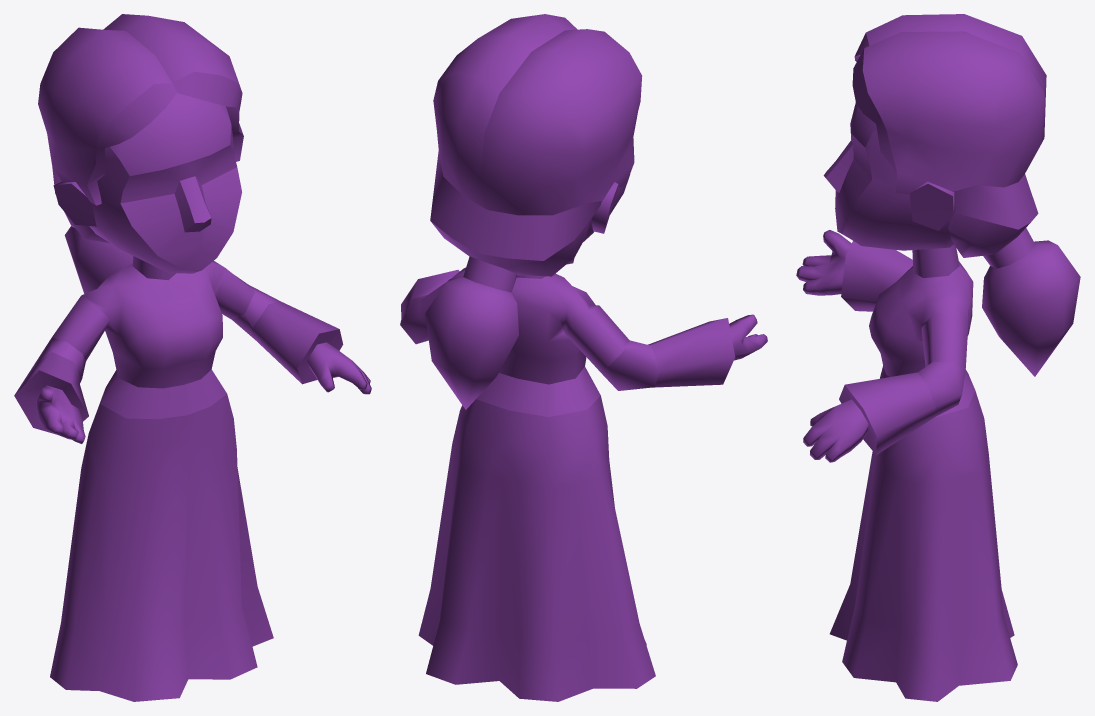
File: env_statue.fbx
3 views of the same model, side by side, from view 1: azimuth 30°, elevation 25°; view 2: azimuth 150°, elevation 25°; view 3: azimuth 270°, elevation 25° (orthographic). The views are drawn at different scales.
Visible parts, largest first — view 1: Female_Legs_02_v2, Female_Torso_02_v2, Female_Hairs_02, Female_Head_05; view 2: Female_Legs_02_v2, Female_Hairs_02, Female_Torso_02_v2, Female_Head_05; view 3: Female_Hairs_02, Female_Legs_02_v2, Female_Torso_02_v2, Female_Head_05.
Boxes of the visible parts, x1=… form: Female_Legs_02_v2: x1=50, y1=369, x2=273, y2=701; Female_Torso_02_v2: x1=14, y1=256, x2=371, y2=443; Female_Hairs_02: x1=38, y1=14, x2=243, y2=293; Female_Head_05: x1=53, y1=93, x2=241, y2=273; Female_Legs_02_v2: x1=418, y1=367, x2=655, y2=701; Female_Hairs_02: x1=425, y1=14, x2=642, y2=409; Female_Torso_02_v2: x1=400, y1=267, x2=767, y2=390; Female_Head_05: x1=583, y1=174, x2=630, y2=241; Female_Hairs_02: x1=852, y1=14, x2=1080, y2=376; Female_Legs_02_v2: x1=829, y1=365, x2=1017, y2=701; Female_Torso_02_v2: x1=796, y1=230, x2=973, y2=462; Female_Head_05: x1=823, y1=102, x2=956, y2=250.
Bounding box in the file's own units: 106 × 190 × 78.89.
